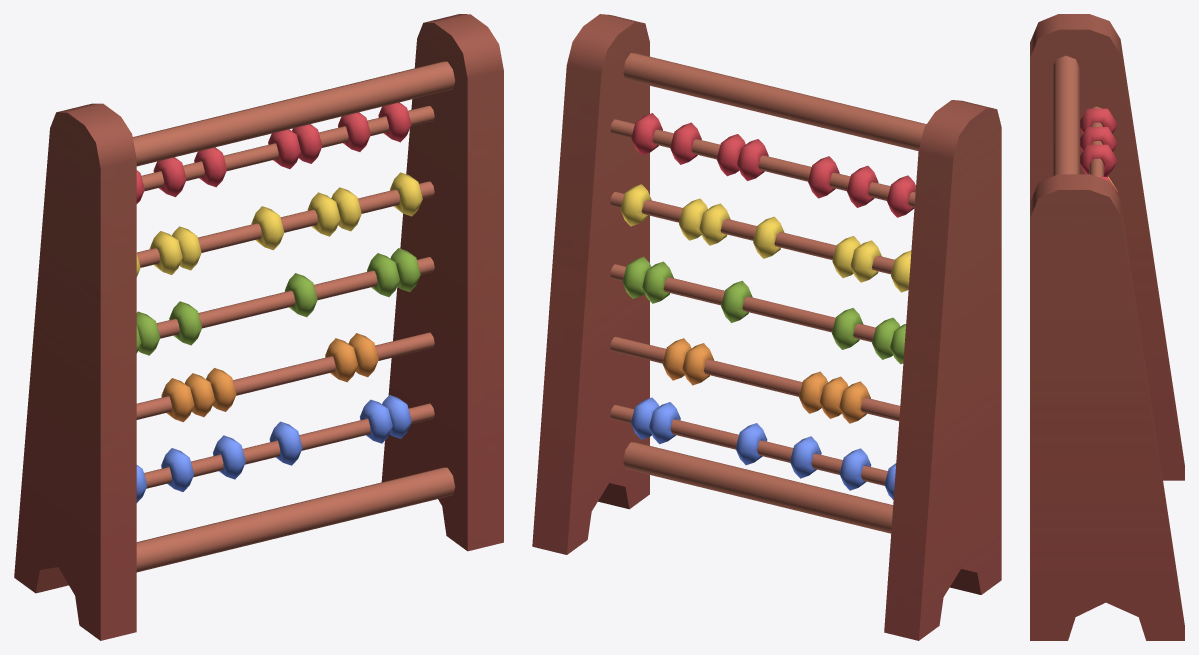
The model's file is SM_Standing_Abacus_01.fbx.
3 renders of one model, left to right at view 1: azimuth 30°, elevation 25°; view 2: azimuth 150°, elevation 25°; view 3: azimuth 270°, elevation 25°, orthographic. The views are drawn at different scales.
Parts seen in each view (by area): view 1: SM_Standing_Abacus_01; view 2: SM_Standing_Abacus_01; view 3: SM_Standing_Abacus_01.
Boxes of the visible parts, x1=… form: SM_Standing_Abacus_01: x1=14, y1=14, x2=503, y2=640; SM_Standing_Abacus_01: x1=532, y1=14, x2=1001, y2=640; SM_Standing_Abacus_01: x1=1030, y1=14, x2=1184, y2=640.
Bounding box in the file's own units: 69.5 × 83 × 25.81.
